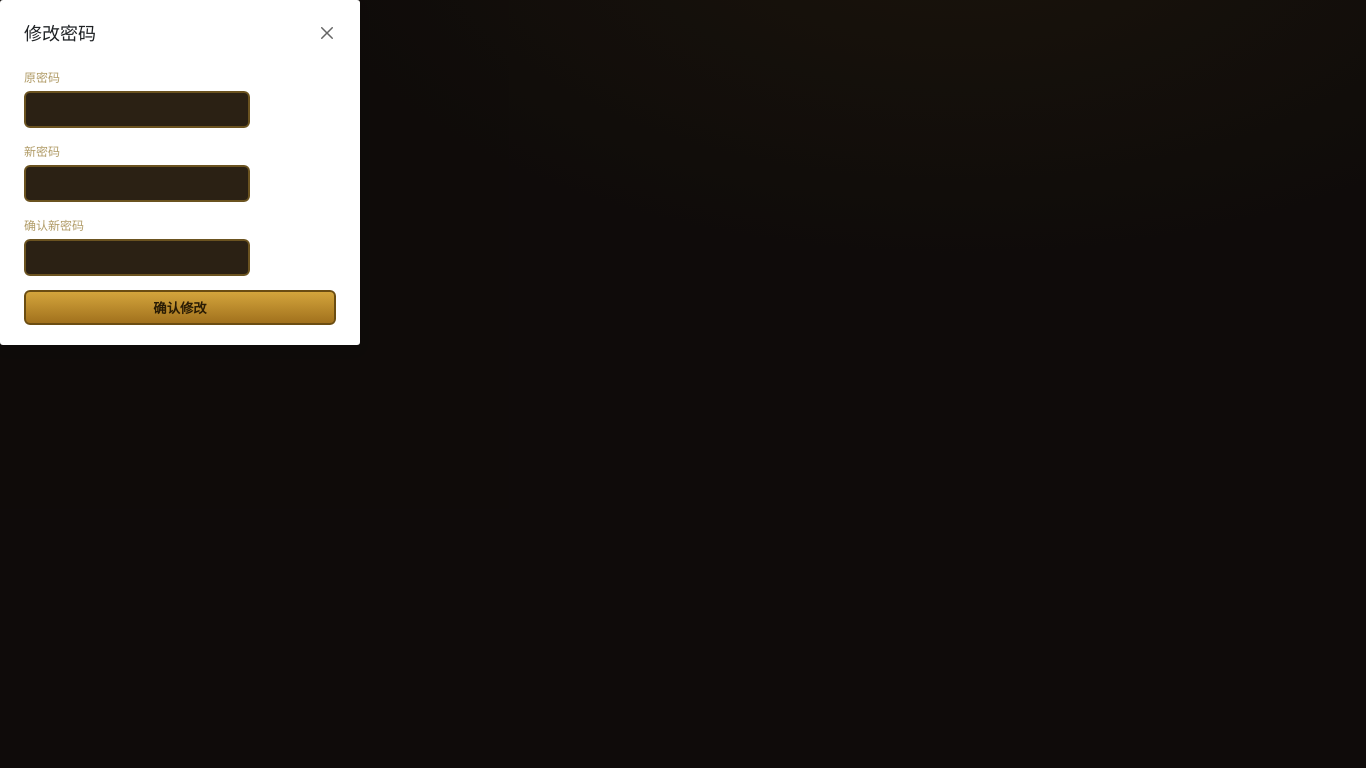
Scenario: ChangePasswordModal › 原密码为空本地校验拦截不调接口
Type "abcdef" into the 2nd password field at point(137, 184), box [24,165,250,202]
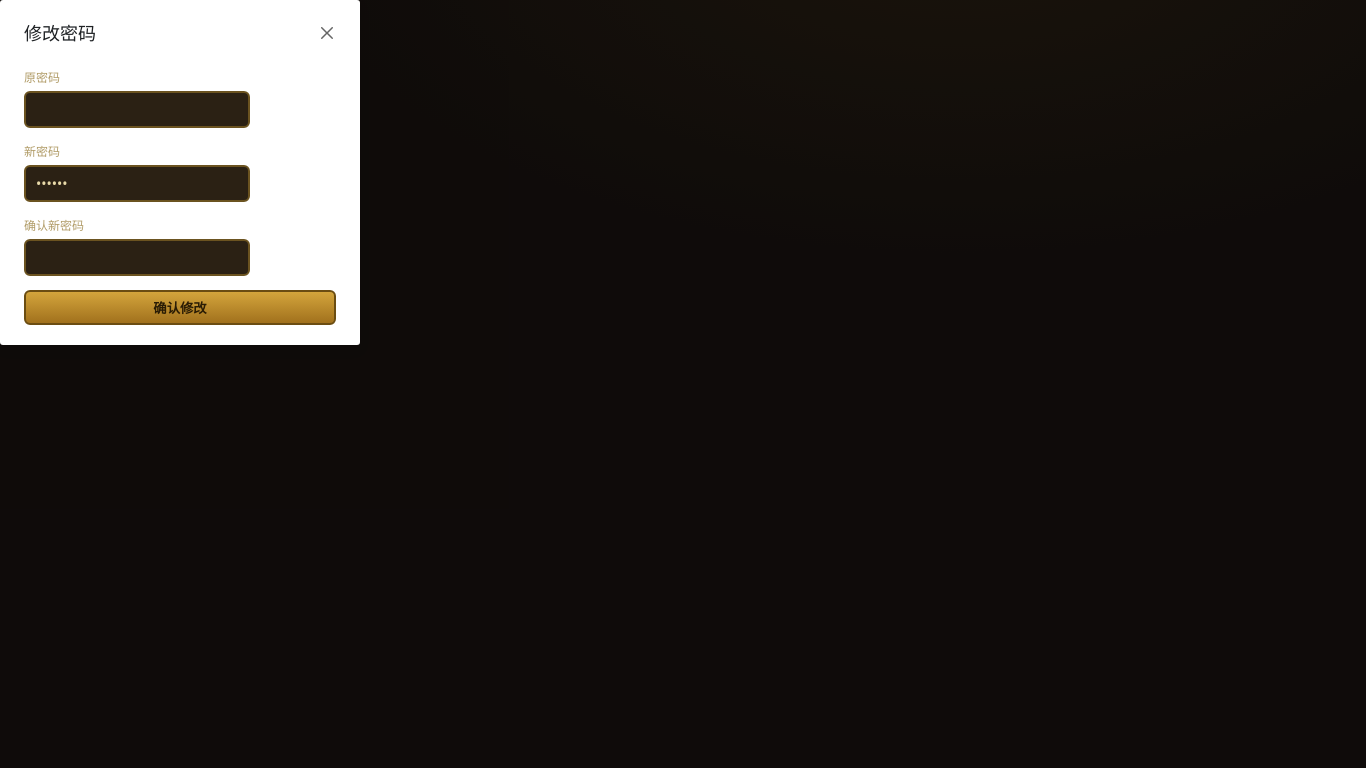
Type "abcdef" into the password field below "确认新密码" at point(137, 258), box [24,239,250,276]
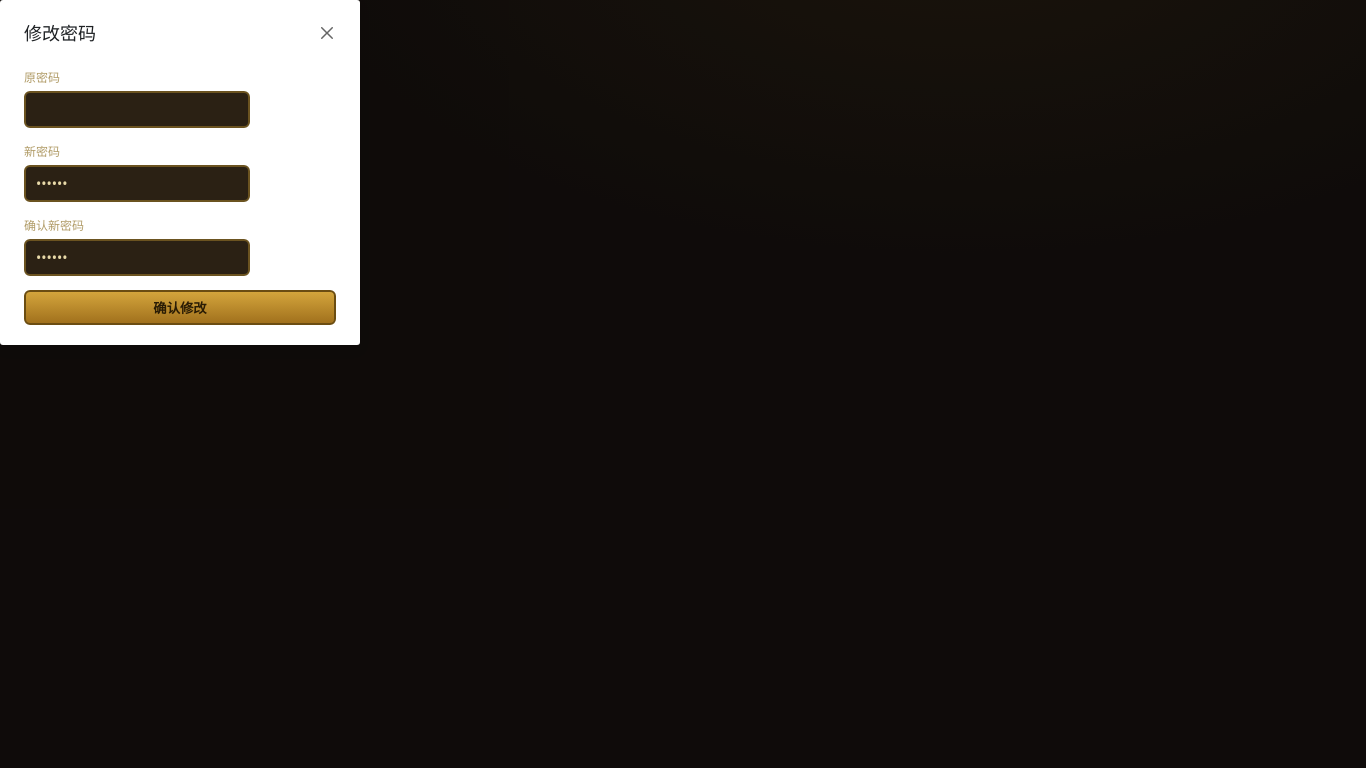
Click the button "确认修改" at point(180, 308), box [24,290,336,325]
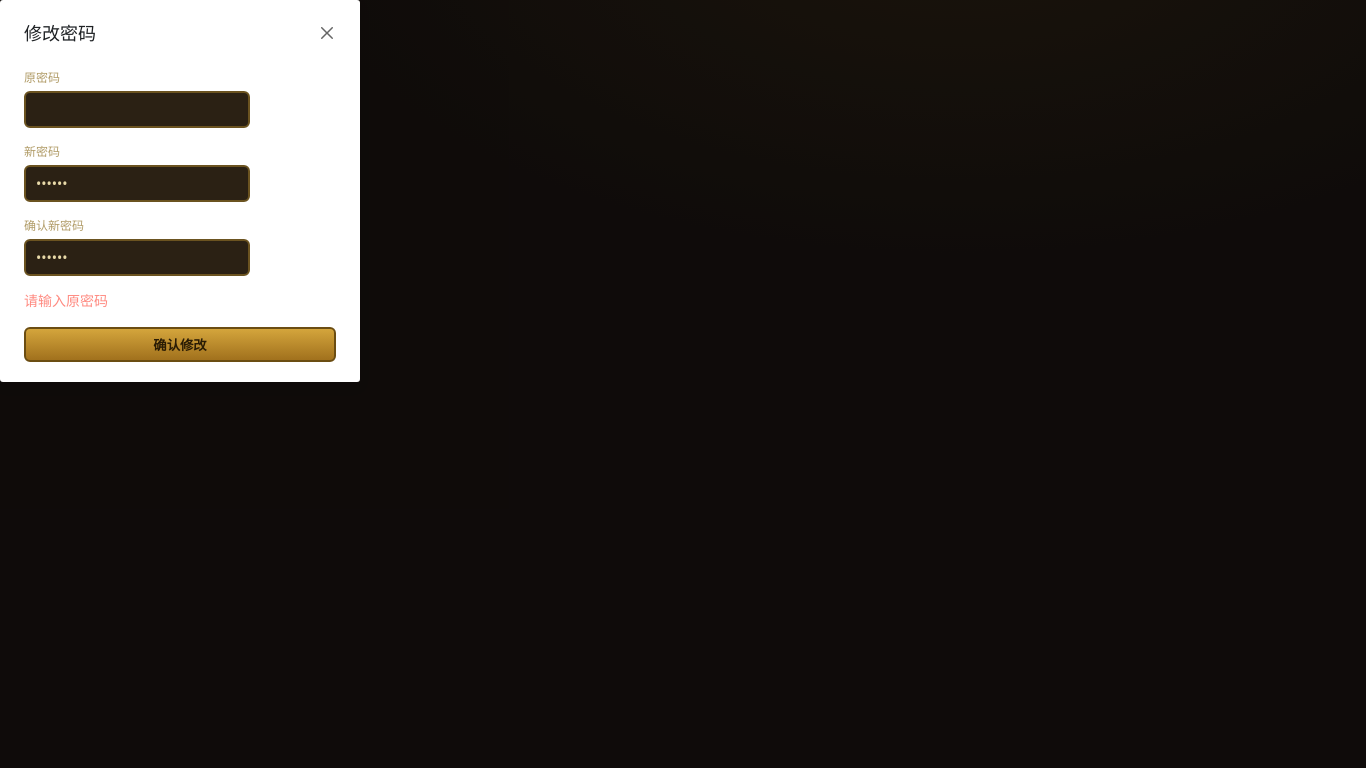
Check: the text "请输入原密码" is shown, box [24,291,108,310]
